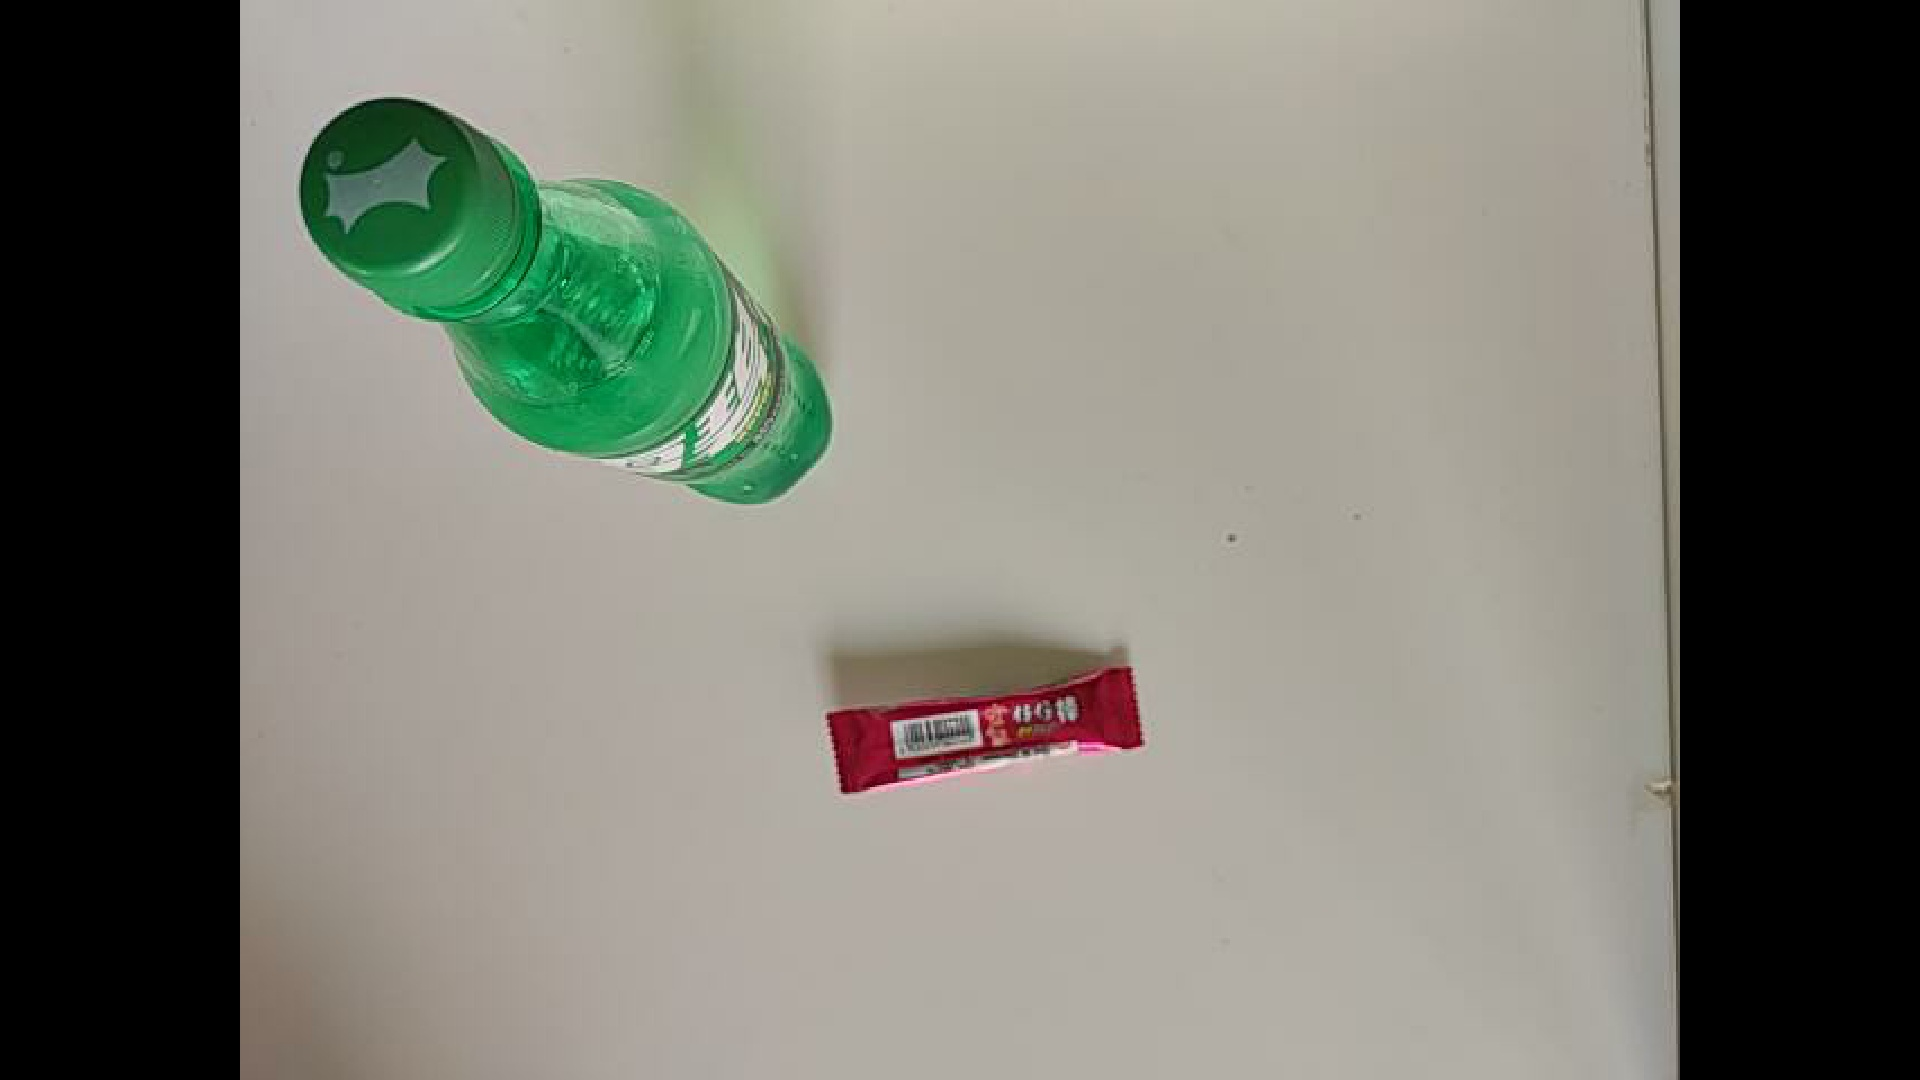sprite: (297, 95, 835, 508)
sugar: (823, 683, 1159, 799)
